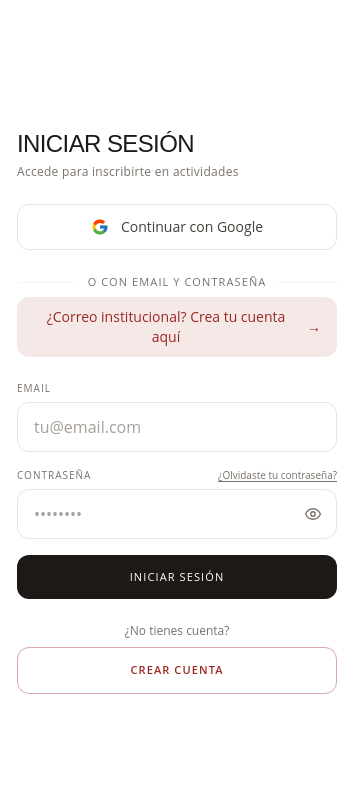
Test: AuthPage — contraseña al crear cuenta › sin número: no crea la cuenta y marca el requisito que falta
Click the button "¿Correo institucional? Crea tu cuenta aquí →" at (177, 326), box [17,296,337,356]
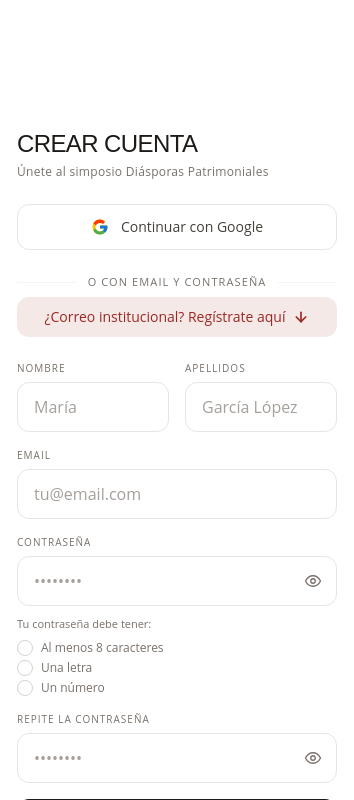
Type "Ana" into the field labelled "Nombre" at (93, 406), box [17,382,169,432]
Type "García" into the field labelled "Apellidos" at (261, 406), box [185,382,337,432]
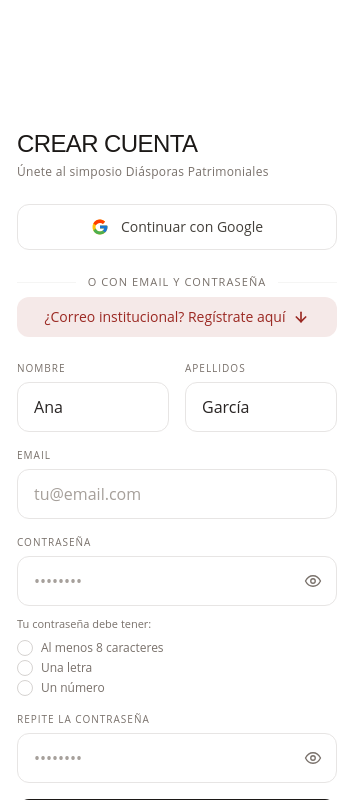
Type "ana@ull.edu.es" into the field with placeholder "tu@email.com" at (177, 494), box [17,468,337,518]
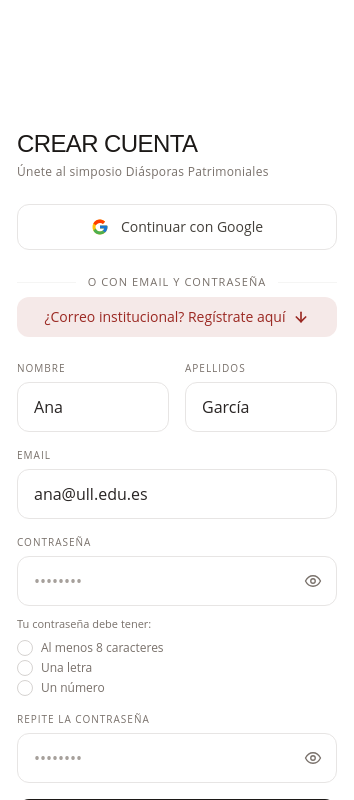
Type "solamenteletras" into the password field labelled "Contraseña" at (177, 580), box [17,556,337,606]
(page scrolled)
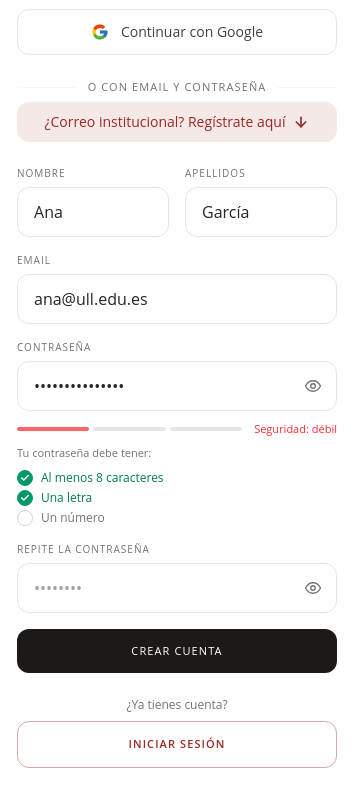
Type "solamenteletras" into the password field labelled "Repite la contraseña" at (177, 588), box [17,562,337,612]
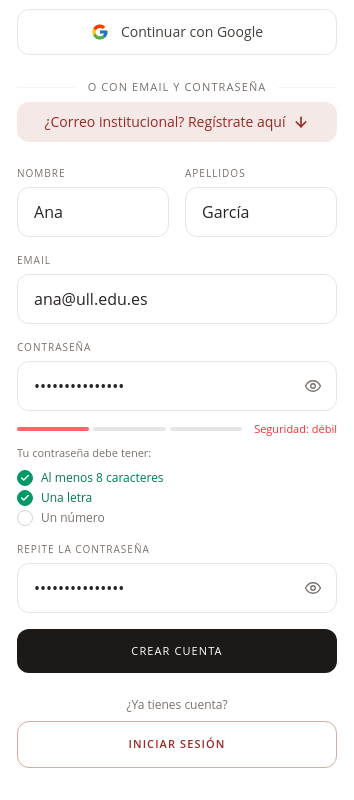
Click the button "Crear cuenta" at (177, 651), box [17,628,337,673]
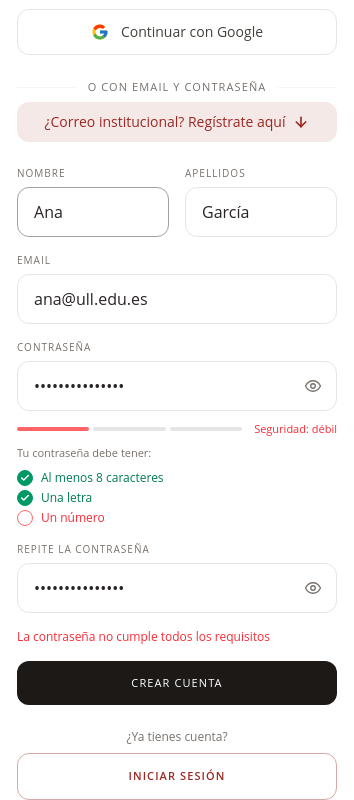
Check: the text "La contraseña no cumple todos los requisitos" is shown, box [17,628,270,644]
